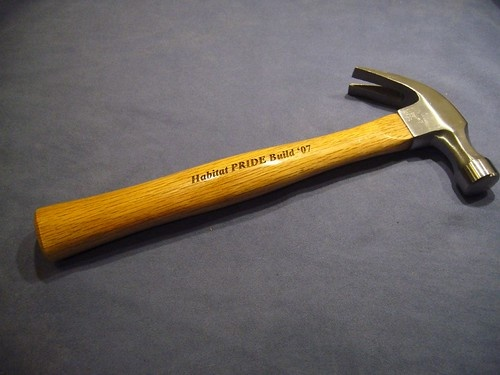hammer: (31, 65, 500, 267)
